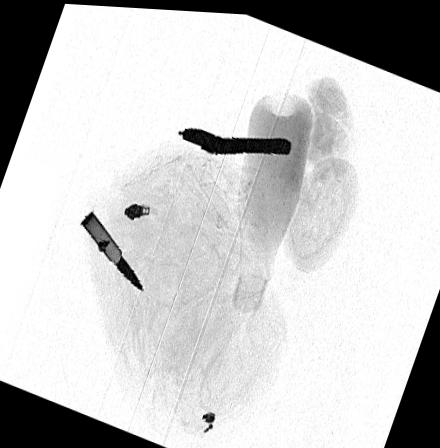Bullet: (79, 210, 142, 291)
Gun: (179, 124, 290, 154)
